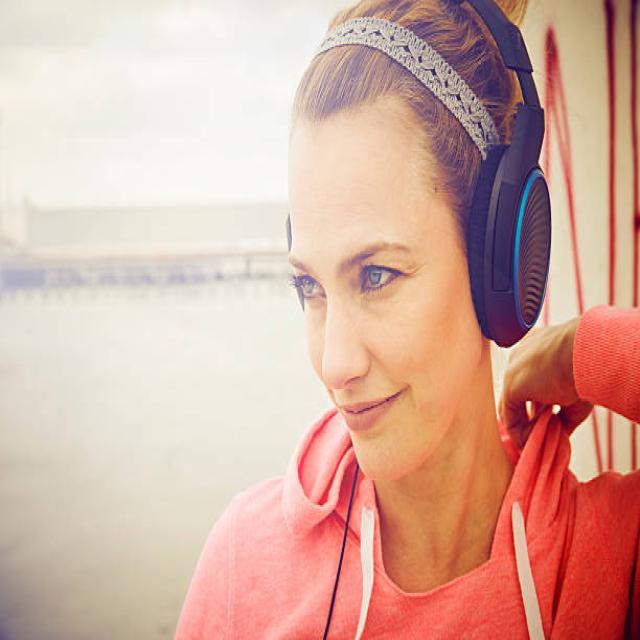Headphone: (286, 0, 552, 349)
